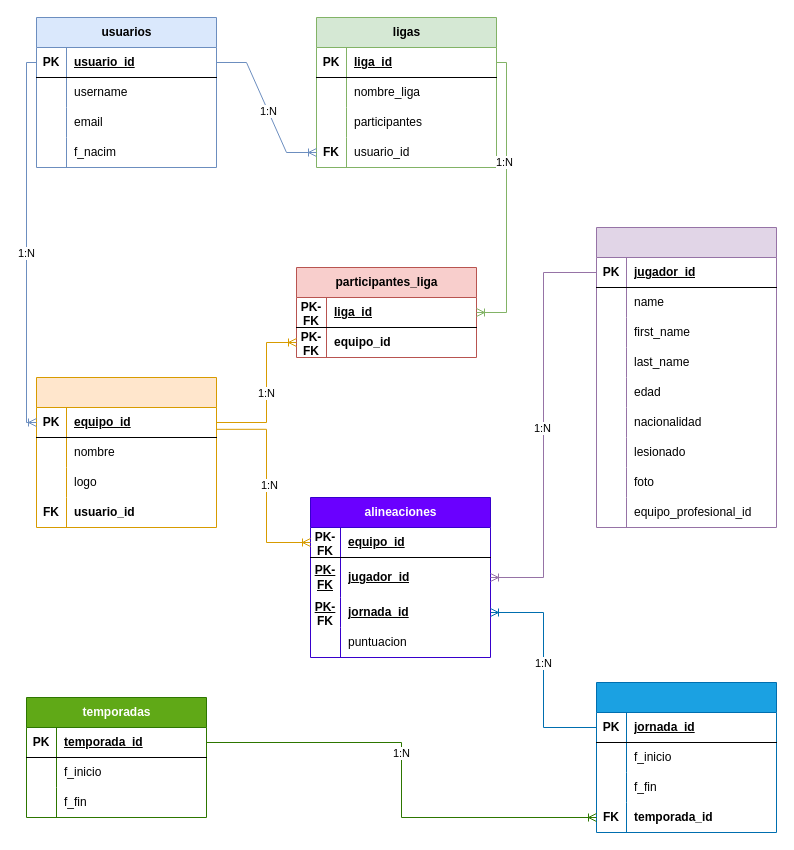
Image size: 794x850. Some labels were removed from this diagram. Here are the shapes that lost their labels. From the top down, the box of each, then its label:
(596, 226, 776, 528): jugadores
(36, 376, 216, 528): equipos
(596, 682, 776, 832): jornadas
